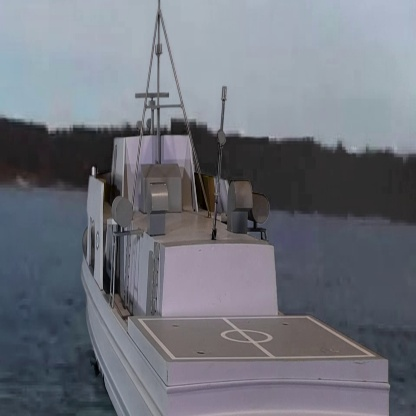YP689: (80, 0, 394, 416)
